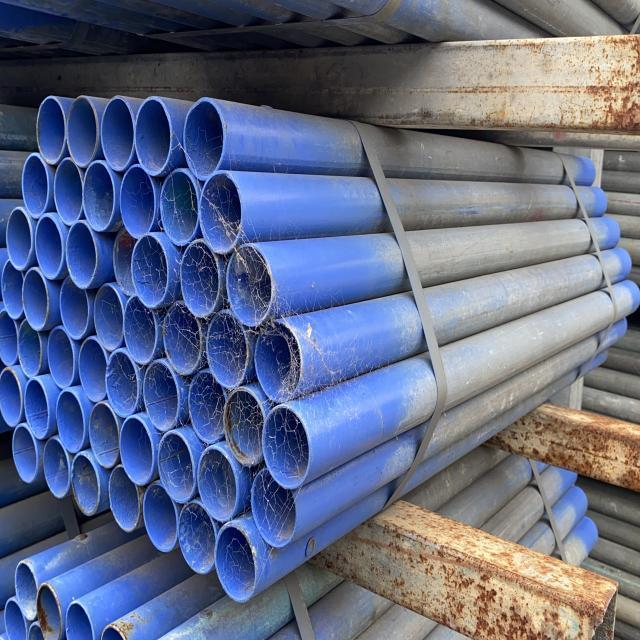pipe: (227, 394, 305, 486), (260, 398, 314, 493), (225, 243, 276, 332), (39, 94, 98, 169), (180, 96, 229, 184), (119, 234, 174, 312), (251, 321, 304, 401), (214, 523, 261, 609), (175, 241, 224, 322), (197, 172, 243, 258), (201, 312, 251, 391), (158, 303, 209, 379), (194, 448, 243, 526), (172, 499, 222, 575), (134, 93, 176, 181), (222, 385, 266, 467), (154, 170, 198, 249), (153, 430, 196, 507), (140, 359, 184, 434), (74, 158, 117, 233), (54, 379, 93, 461), (121, 293, 162, 370), (117, 166, 160, 239), (65, 446, 106, 522), (119, 415, 159, 492), (142, 482, 183, 556), (106, 462, 145, 537), (63, 215, 100, 294), (105, 348, 145, 420), (102, 94, 138, 174), (50, 157, 87, 229), (39, 431, 74, 506), (89, 391, 122, 469), (22, 370, 57, 443), (10, 416, 43, 493), (32, 205, 64, 283), (58, 272, 93, 343), (20, 262, 52, 336), (94, 283, 126, 357), (79, 333, 108, 409), (19, 153, 50, 224), (48, 319, 78, 392), (2, 208, 35, 274), (16, 312, 46, 383), (0, 256, 29, 327), (13, 554, 41, 625), (36, 576, 67, 640), (112, 225, 138, 299), (2, 359, 25, 436), (60, 598, 102, 640), (0, 304, 20, 377), (1, 596, 33, 640), (96, 621, 135, 640)
